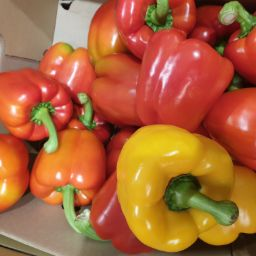Bell pepper: (41, 3, 256, 256), (87, 2, 237, 131), (114, 125, 245, 253), (195, 111, 256, 256), (30, 123, 110, 233), (208, 2, 256, 168), (1, 64, 74, 161), (38, 41, 101, 111), (1, 130, 31, 216)
